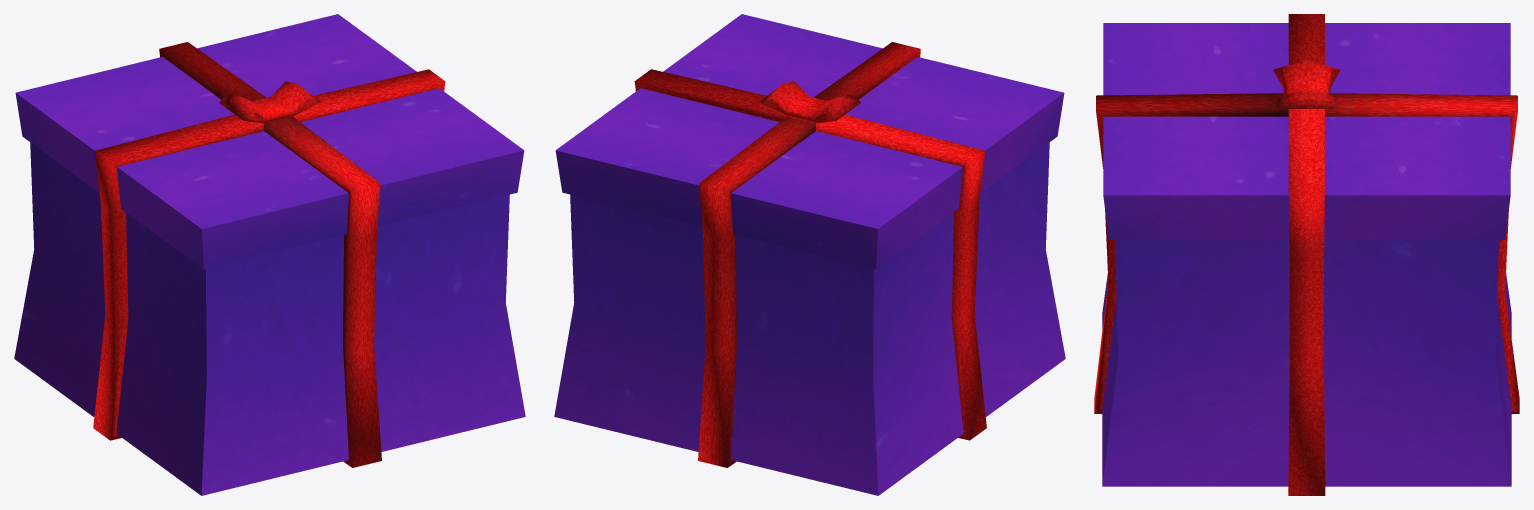
Rendered from present4.DAE.
3 views of the same model, side by side, from view 1: azimuth 30°, elevation 25°; view 2: azimuth 150°, elevation 25°; view 3: azimuth 270°, elevation 25° (orthographic). The views are drawn at different scales.
Parts seen in each view (by area): view 1: MESH01; view 2: MESH01; view 3: MESH01.
Boxes of the visible parts, x1=… form: MESH01: x1=14, y1=14, x2=525, y2=495; MESH01: x1=554, y1=14, x2=1065, y2=495; MESH01: x1=1094, y1=14, x2=1519, y2=495.
Size of the model in its own units: 0.413 by 0.4133 by 0.3573.
Materials: 1 (1 with a texture image).
